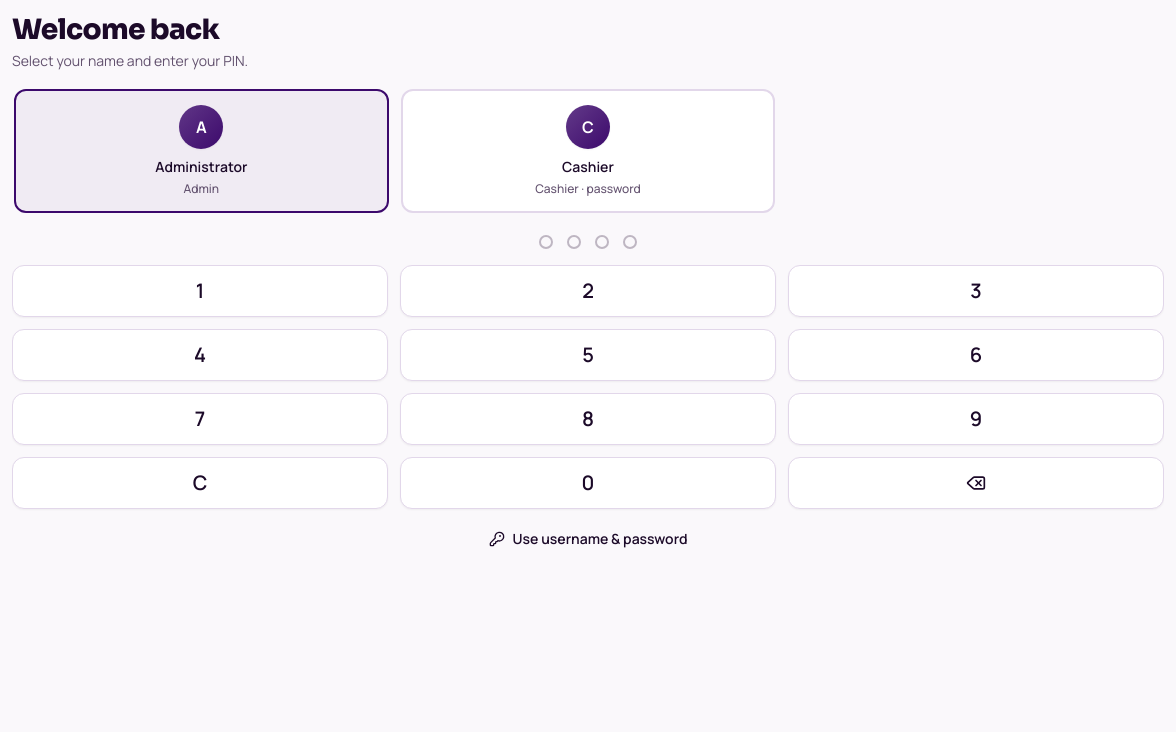
the PIN panel › a wrong PIN clears the dots and says how many tries are left; C and ⌫ work
Earlier steps of the test are not shown.
Check: the message named "0 of 4 digits entered" has attribute data-pin-dots="0", box [539,235,637,249]
Click the button "5": coordinates (588, 355) [400,329,776,381]
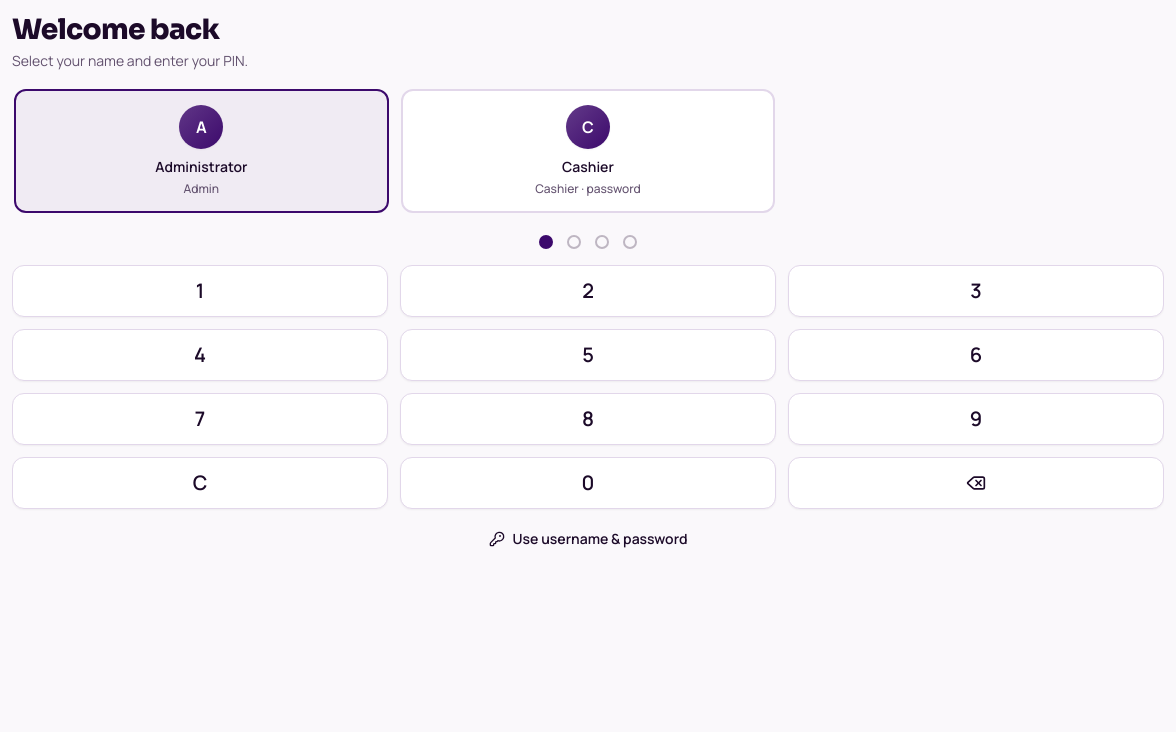
Click the button "C": coordinates (200, 483) [12,457,388,509]
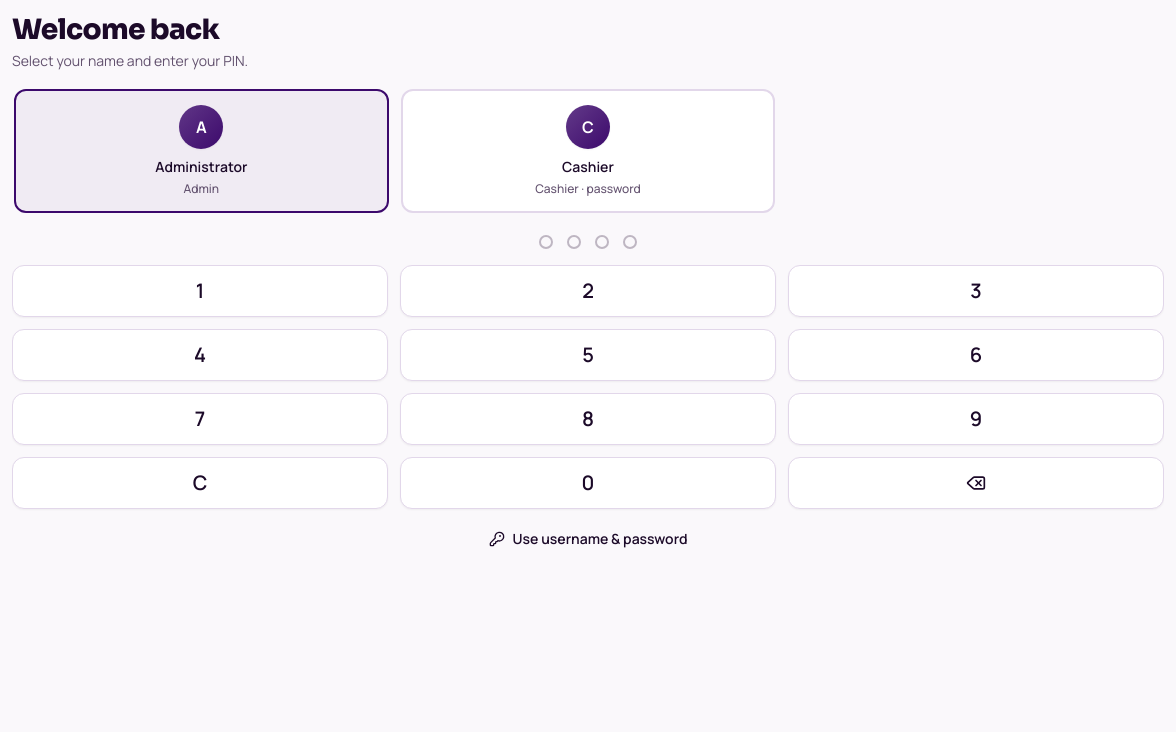
Check: the message named "0 of 4 digits entered" has attribute data-pin-dots="0", box [539,235,637,249]
Click the button "0": coordinates (588, 483) [400,457,776,509]
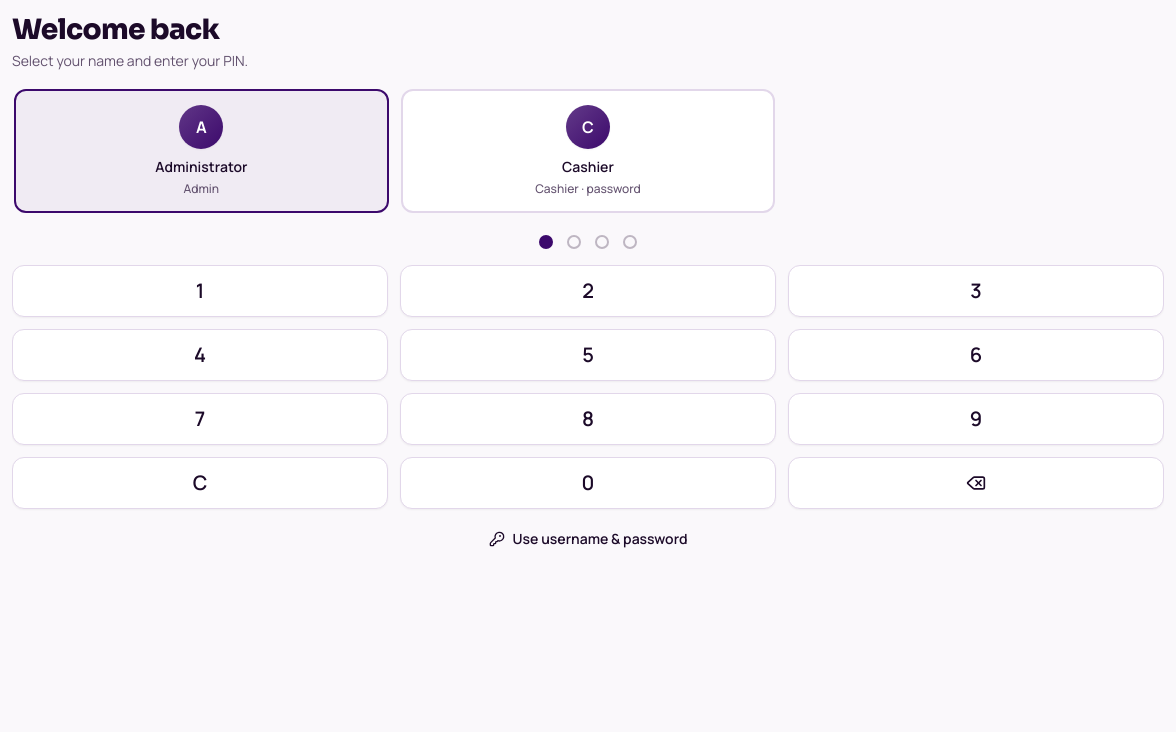
Click the button "0": coordinates (588, 483) [400,457,776,509]
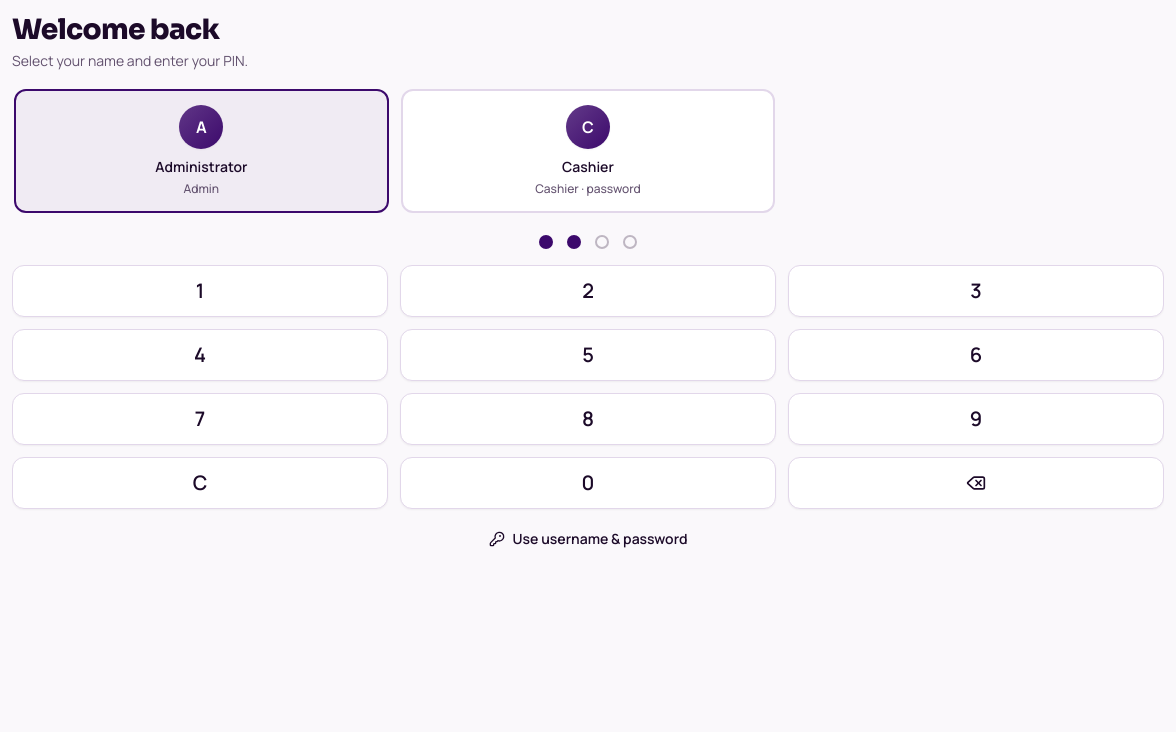
Click the button "0": coordinates (588, 483) [400,457,776,509]
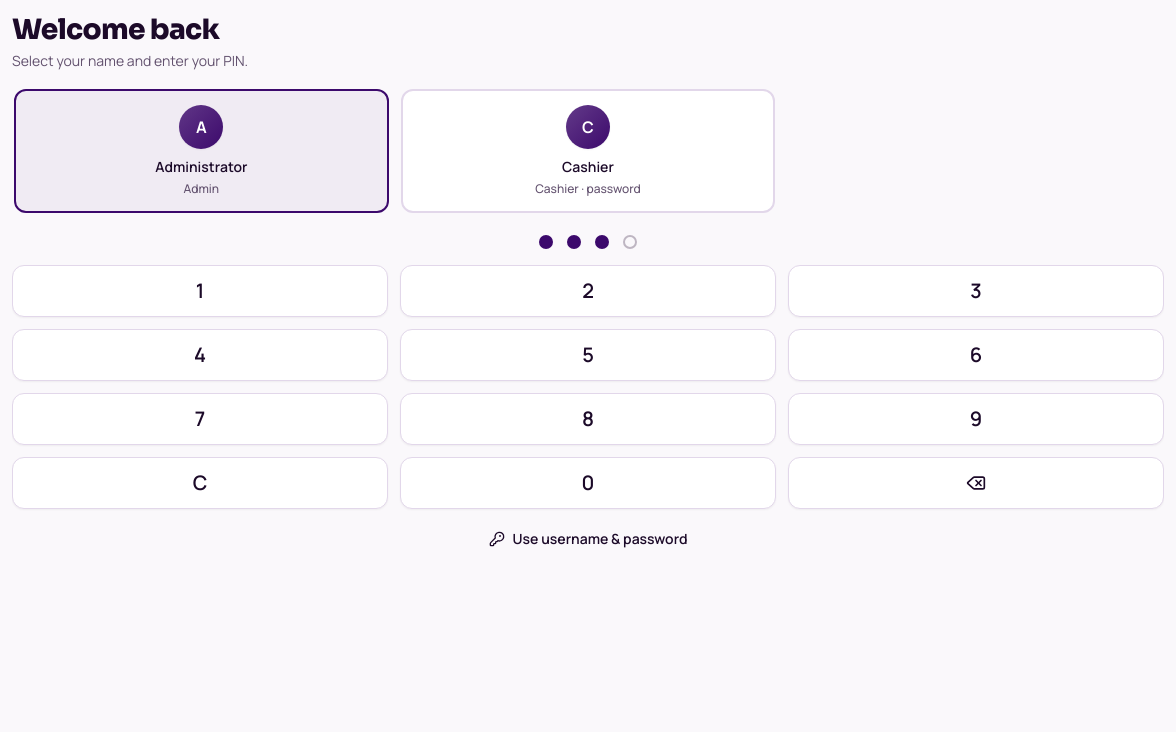
Click the button "0": coordinates (588, 483) [400,457,776,509]
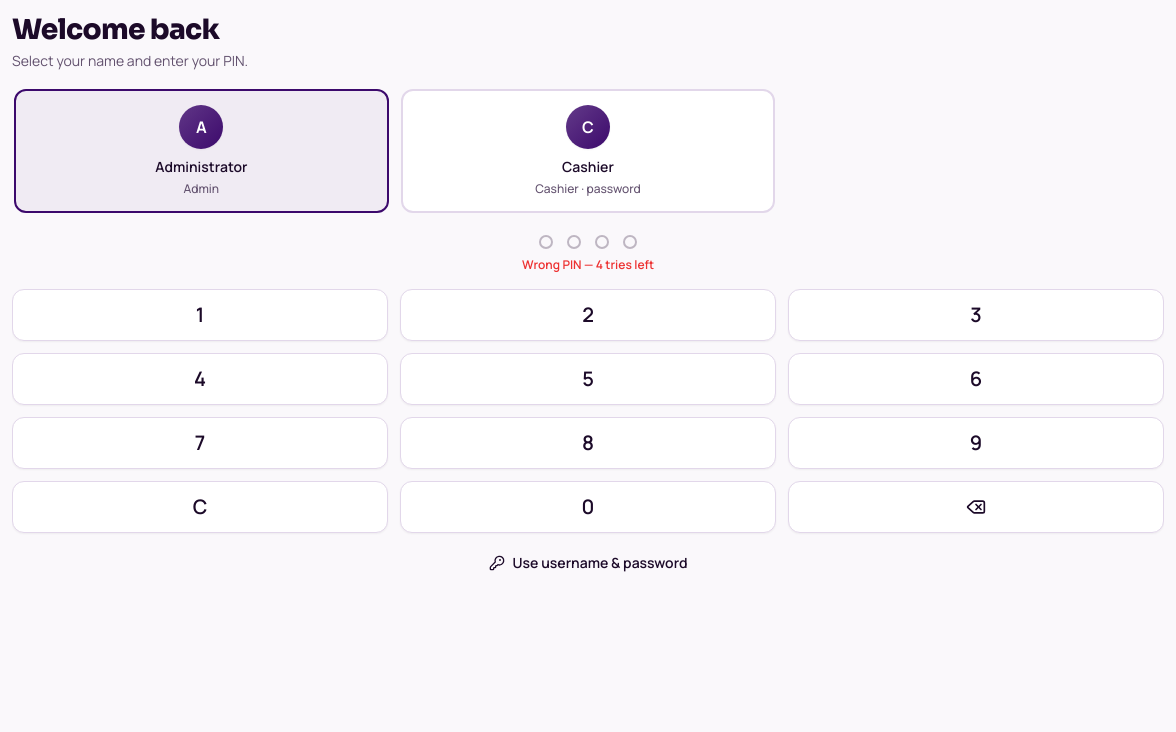
Check: the message "Wrong PIN — 4 tries left" is shown, box [522,256,654,273]
